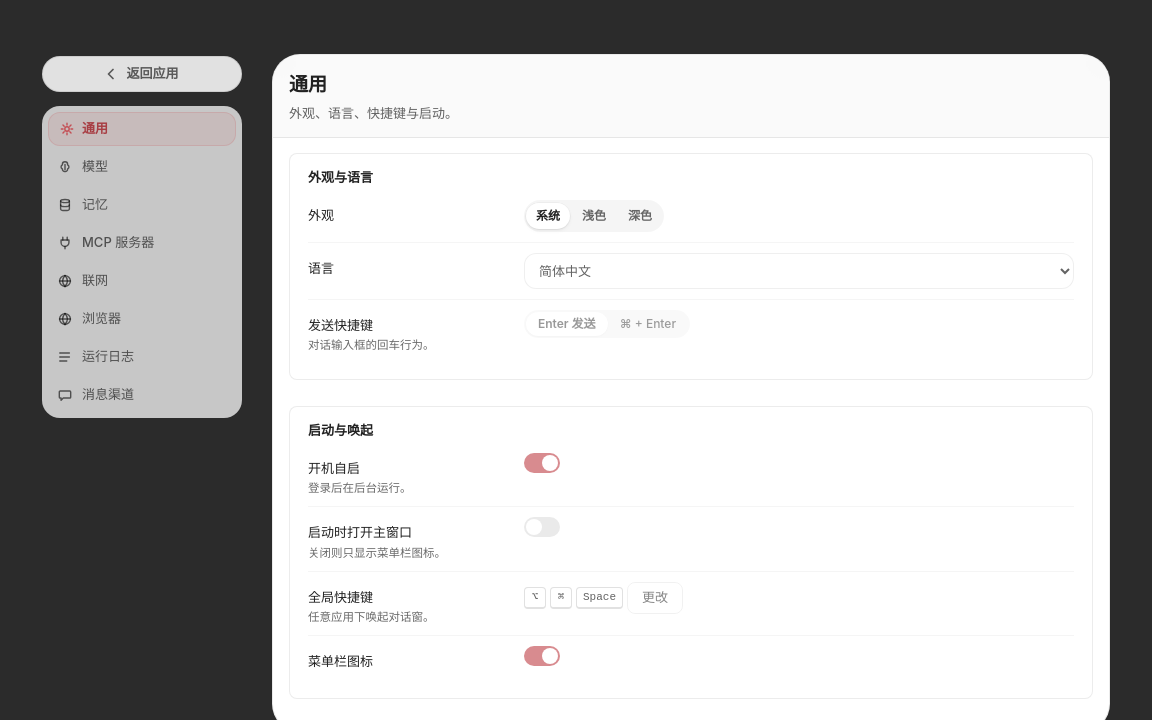
Test case: SettingsPage MCP tools › tools view tolerates servers returned by an older gateway without tool policy fields
The width and height of the screenshot is (1152, 720).
Click the tab "MCP 服务器": click(142, 243) [48, 226, 236, 260]
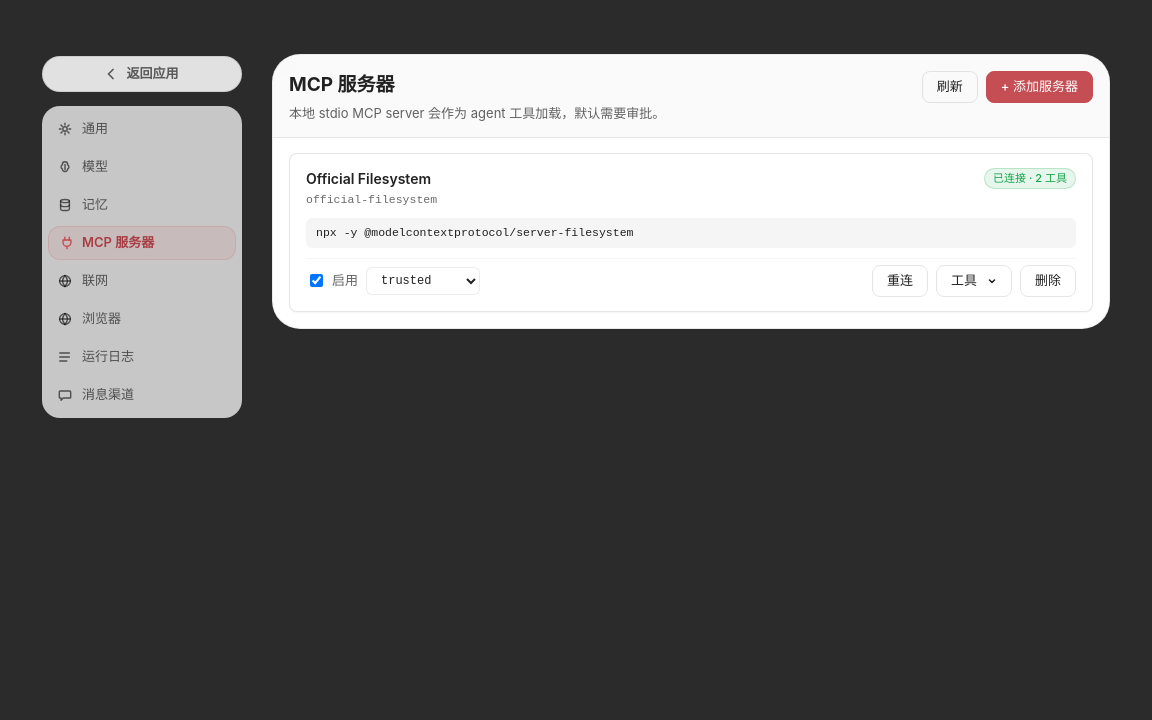
Expected: the heading "Official Filesystem" is shown, [306, 170, 431, 187]
Click the button "工具": click(974, 280) [936, 264, 1012, 296]
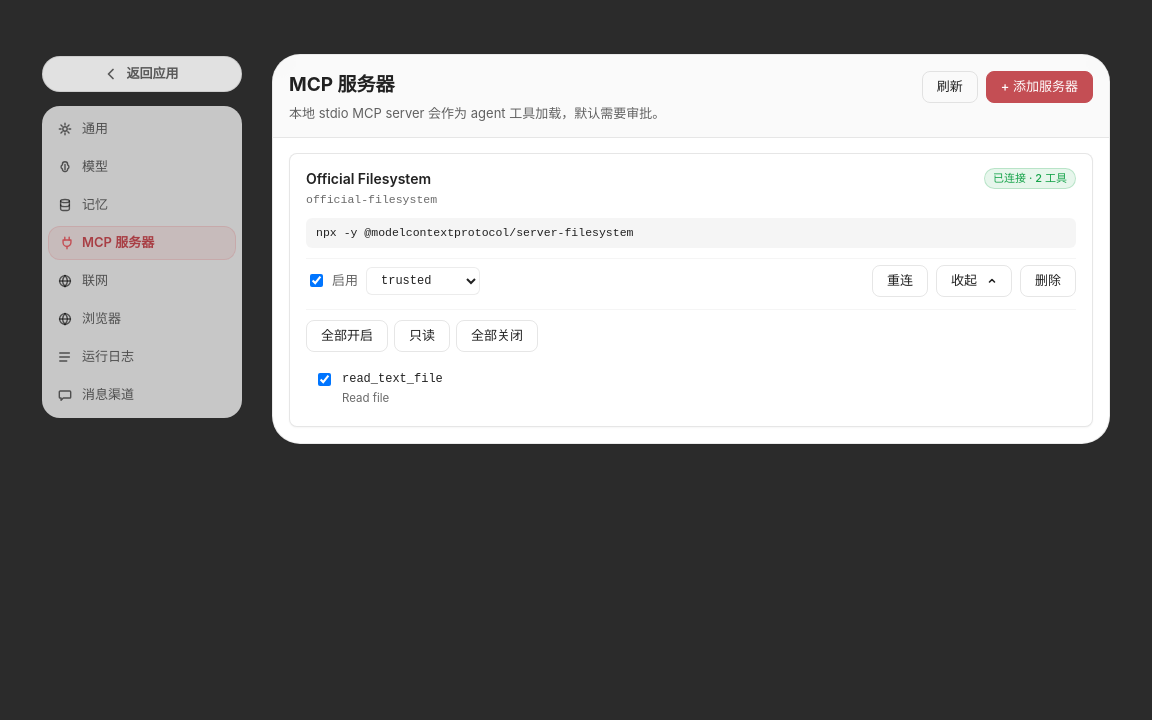
Expected: the checkbox labelled "read_text_file Read file" is shown, [318, 372, 331, 386]
